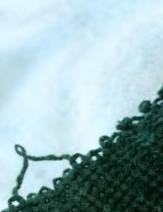snag: (9, 142, 82, 201)
